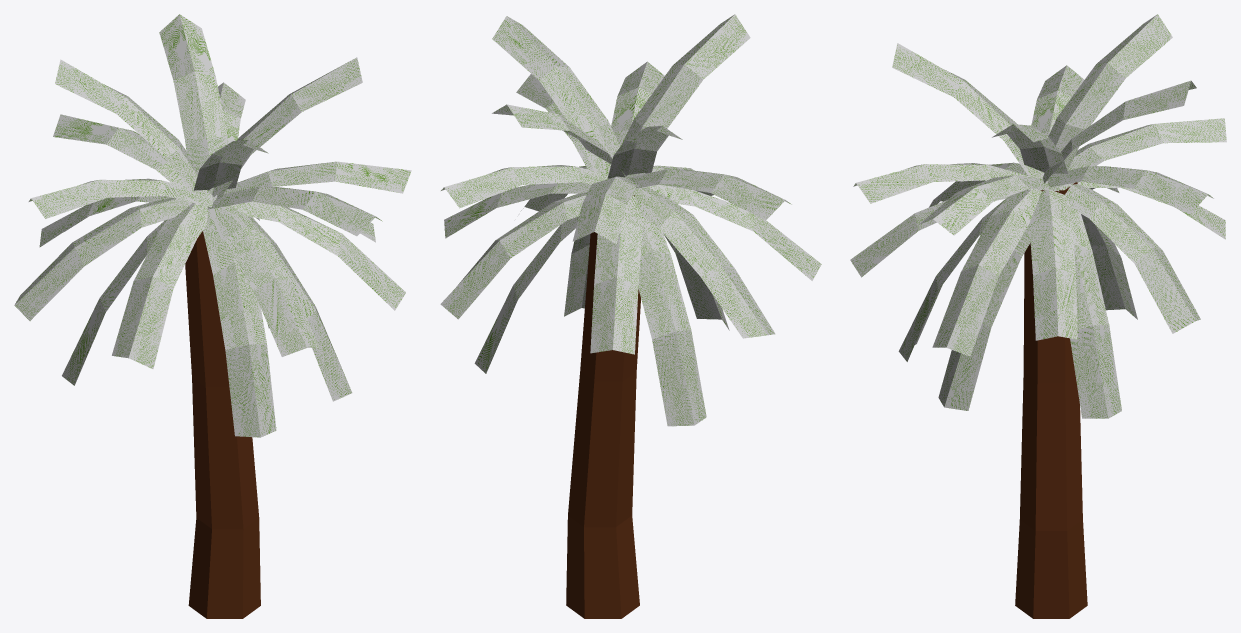
File: T_Palm1PartialSnow.fbx
3 views of the same model, side by side, from view 1: azimuth 30°, elevation 25°; view 2: azimuth 150°, elevation 25°; view 3: azimuth 270°, elevation 25° (orthographic). The views are drawn at different scales.
Visible parts, largest first — view 1: Cylinder; view 2: Cylinder; view 3: Cylinder.
Boxes of the visible parts, x1,y1,x2,y2 form: Cylinder: (14,14,411,618); Cylinder: (440,14,821,618); Cylinder: (850,14,1226,618).
Size of the model in its own units: 4.6 by 6.95 by 4.42.
